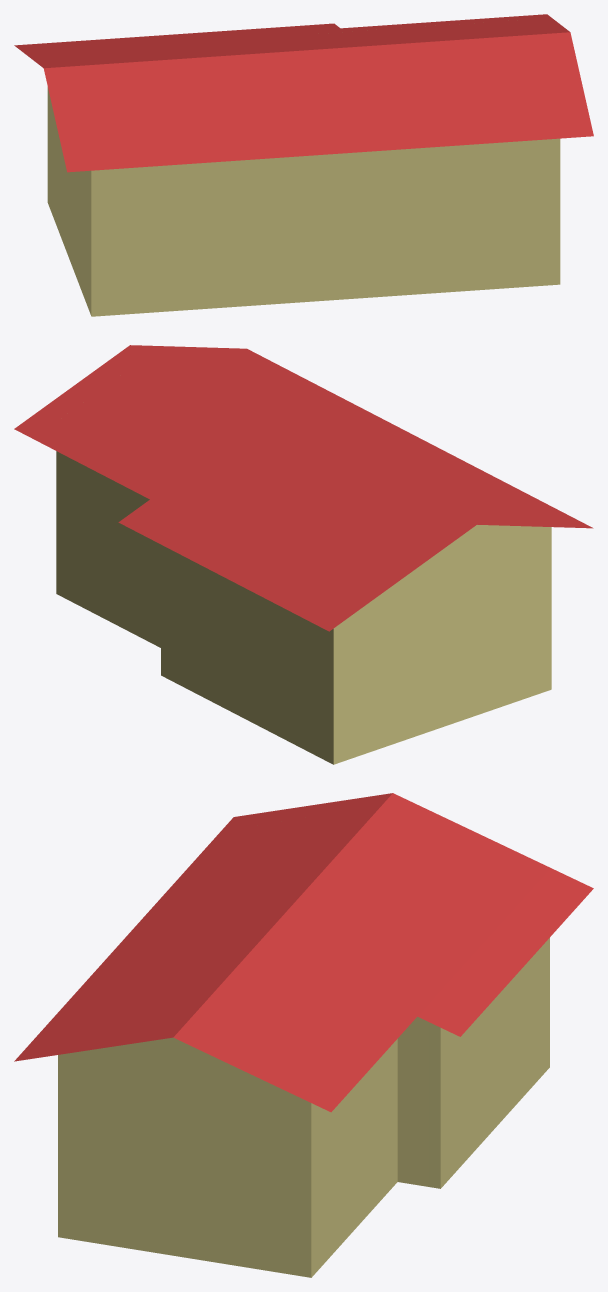
3 renders of one model, top to bottom at view 1: azimuth 30°, elevation 25°; view 2: azimuth 150°, elevation 25°; view 3: azimuth 270°, elevation 25°, orthographic. The views are drawn at different scales.
Bounding box in the file's own units: 20.52 × 17.03 × 7.57.
